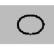no answer: (13, 14, 47, 36)
